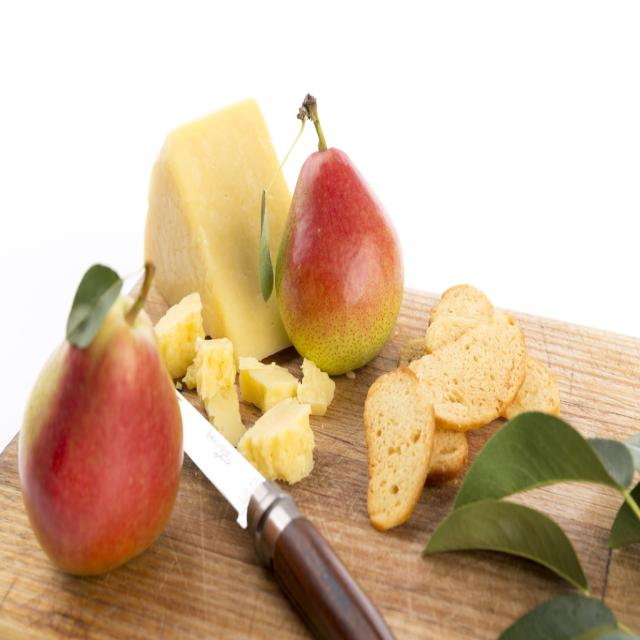pear: (15, 292, 183, 574), (274, 148, 406, 372)
